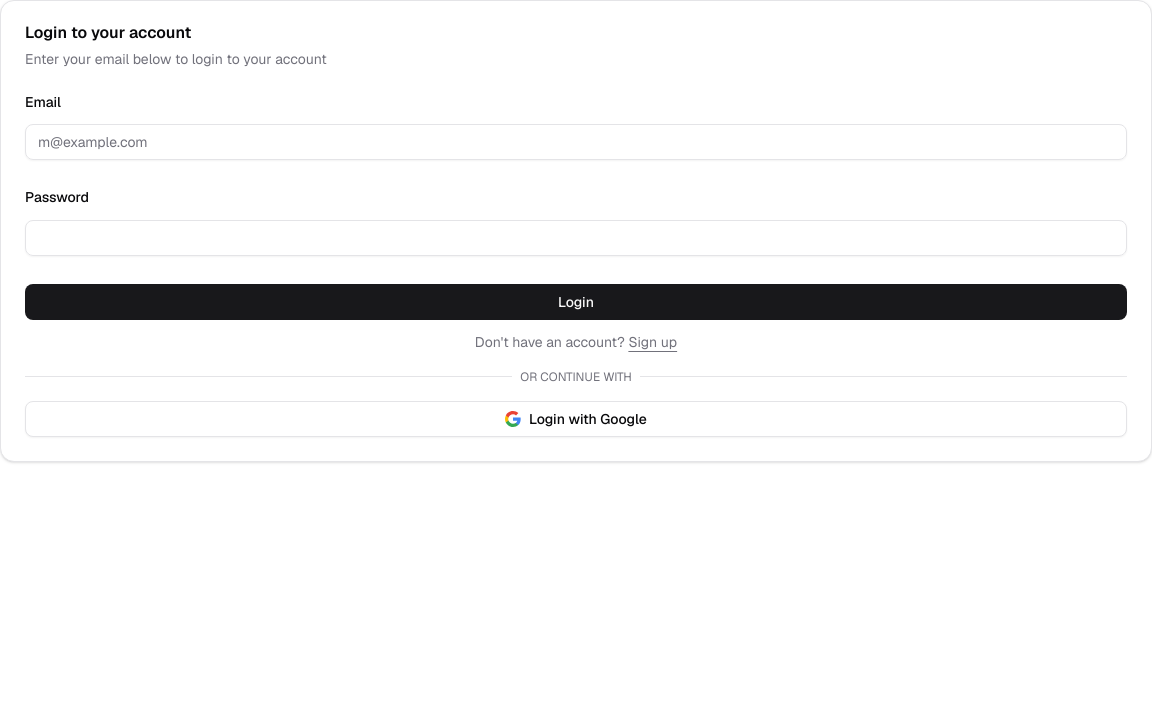
LoginForm › should show validation errors for empty fields
The width and height of the screenshot is (1152, 720).
Click the button with test id "login-button" at (576, 302), box left=25, top=284, right=1127, bottom=320
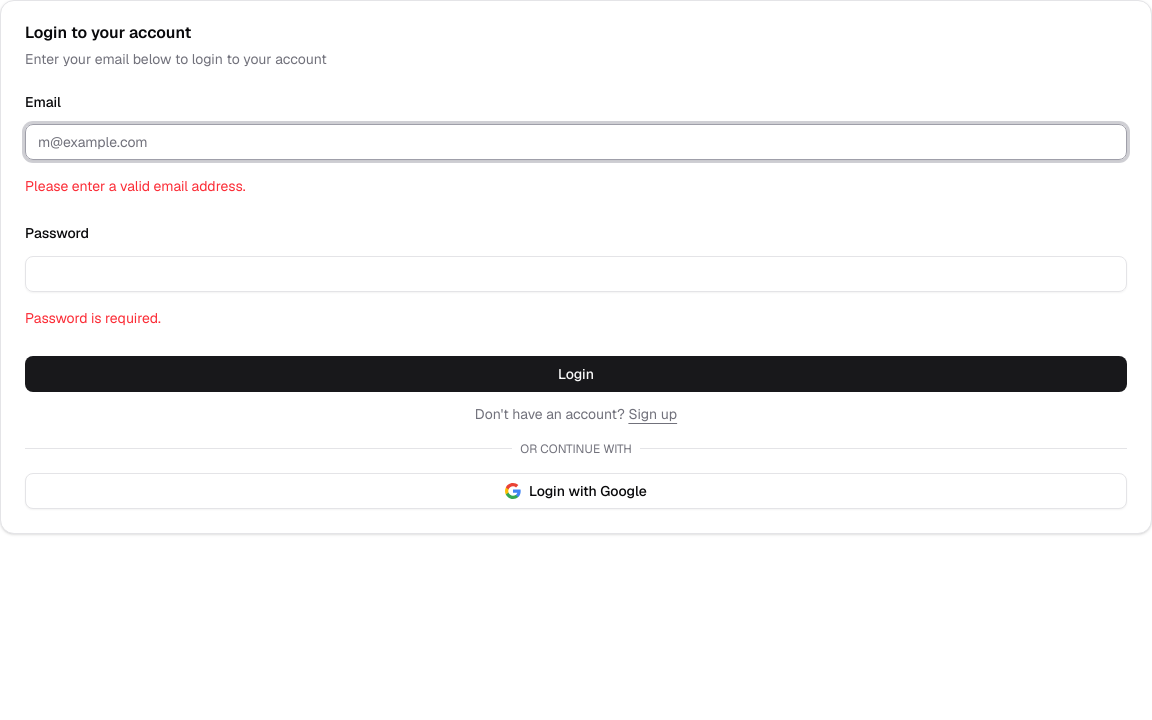
Expected: the text "Please enter a valid email address." is shown, left=25, top=177, right=246, bottom=195
